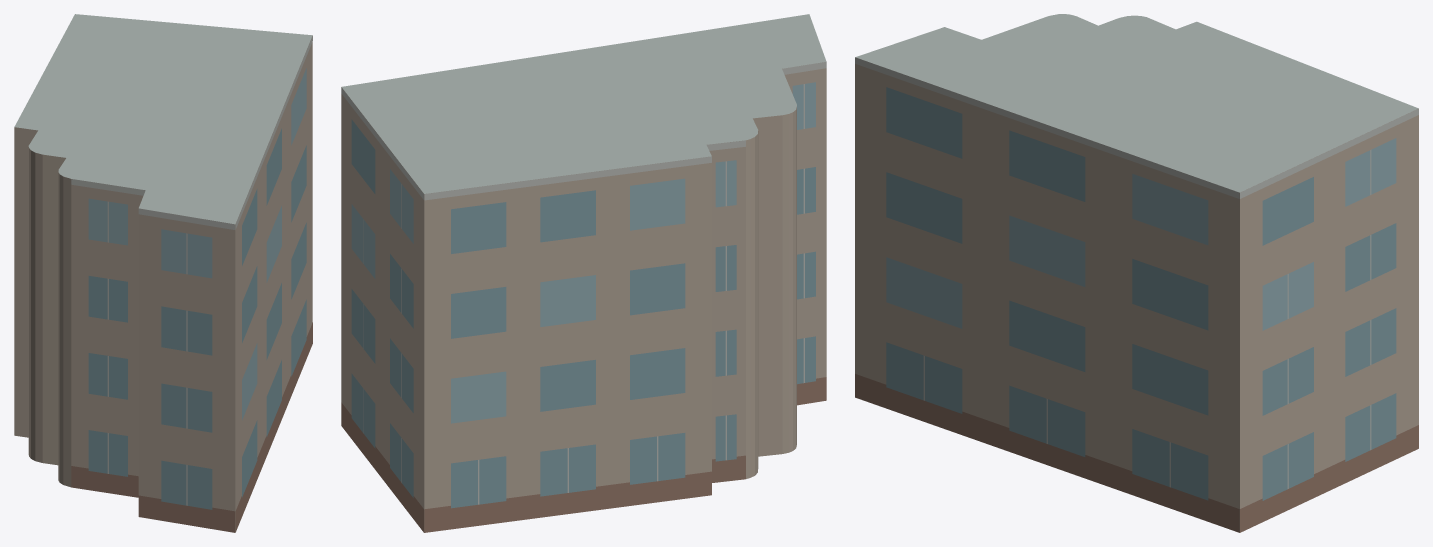
The model's file is survey-upis-32704153.glb.
3 renders of one model, left to right at view 1: azimuth 30°, elevation 25°; view 2: azimuth 150°, elevation 25°; view 3: azimuth 270°, elevation 25°, orthographic. The views are drawn at different scales.
Visible parts, largest first — view 1: survey-upis-32704153.tmp; view 2: survey-upis-32704153.tmp; view 3: survey-upis-32704153.tmp.
Boxes of the visible parts, x1,y1,x2,y2 form: survey-upis-32704153.tmp: (14,14,312,532); survey-upis-32704153.tmp: (341,14,826,532); survey-upis-32704153.tmp: (855,14,1418,532).
Size of the model in its own units: 14.42 by 12.8 by 19.23.
